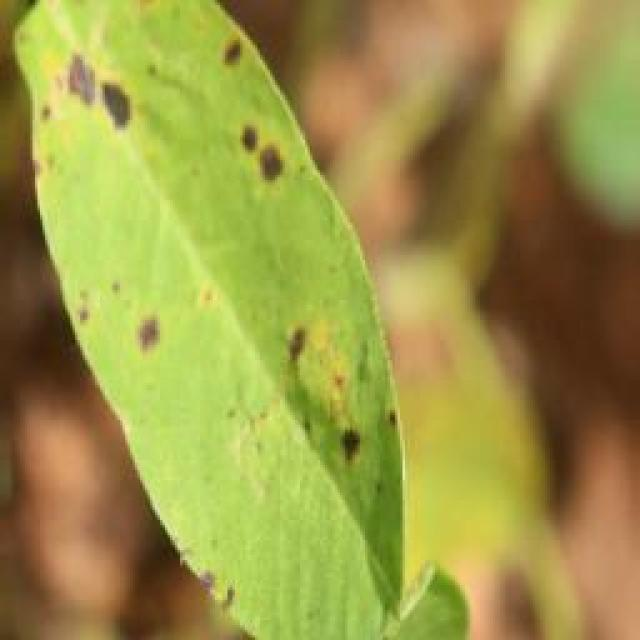Yellowish: (25, 19, 411, 590)
